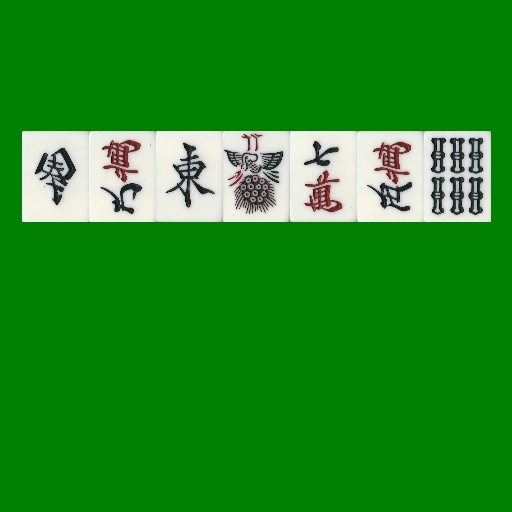1s: (223, 131, 290, 222)
5m: (357, 131, 424, 222)
6s: (424, 131, 491, 222)
7m: (290, 131, 357, 222)
9m: (89, 131, 156, 222)
east: (156, 131, 223, 222)
south: (22, 131, 89, 222)
